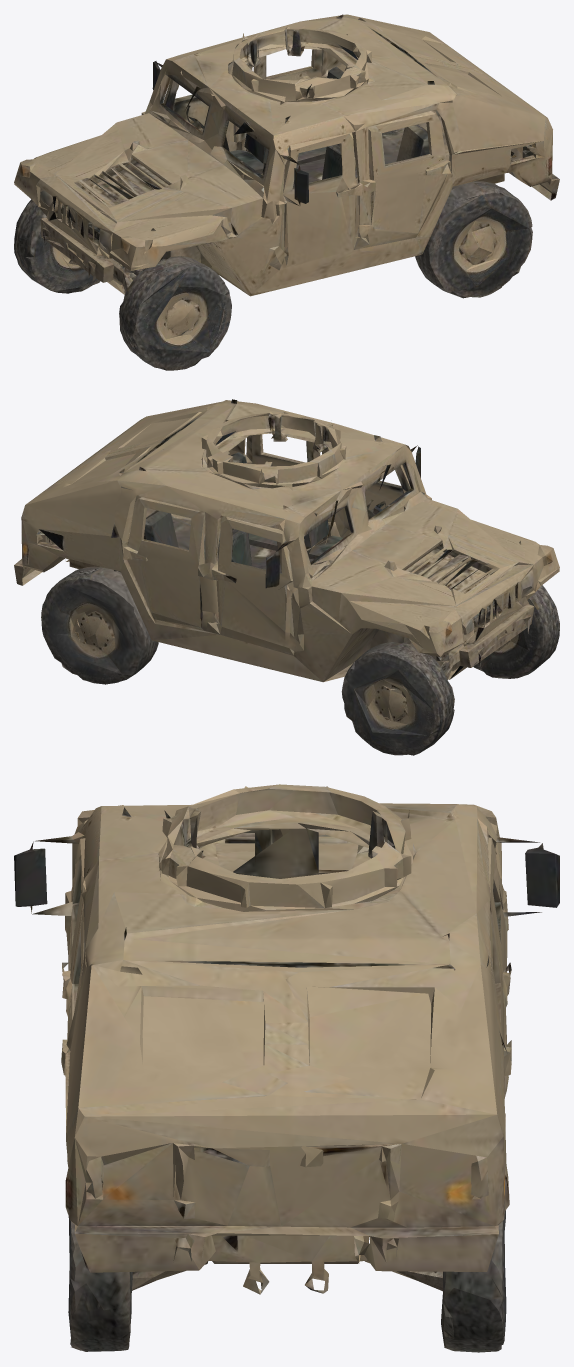
File: humvee.glb
3 renders of one model, top to bottom at view 1: azimuth 30°, elevation 25°; view 2: azimuth 150°, elevation 25°; view 3: azimuth 270°, elevation 25°, orthographic. The views are drawn at different scales.
Size of the model in its own units: 1.9 by 0.9636 by 1.17.
Materials: 1 (1 with a texture image).
